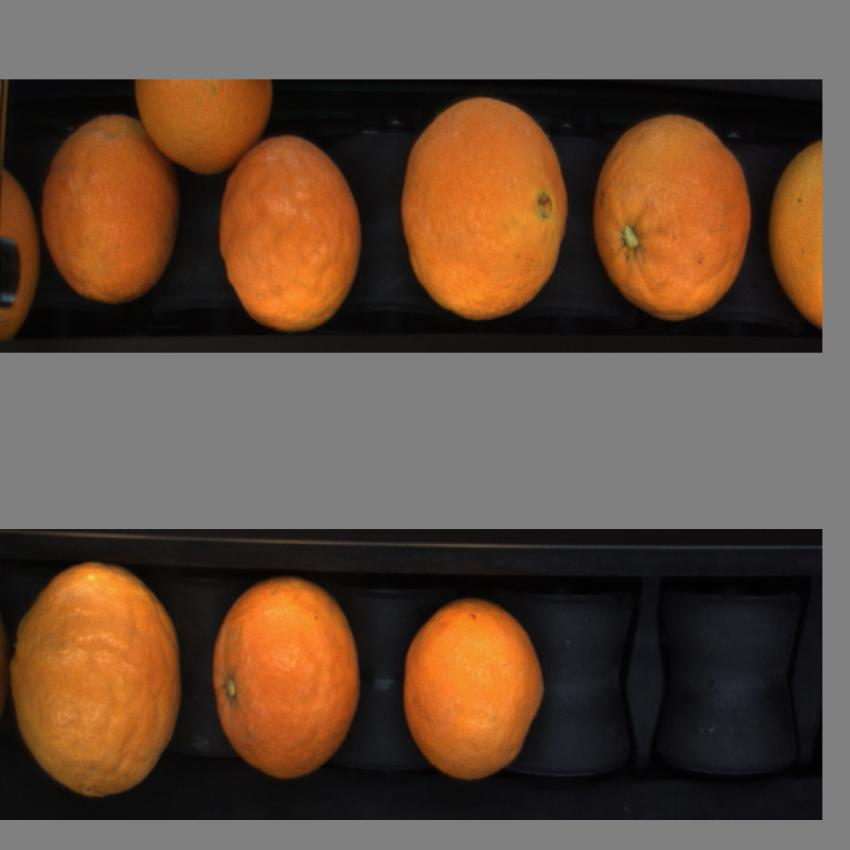Buen estado: (6, 556, 186, 802), (394, 88, 572, 325), (588, 104, 760, 328), (210, 573, 368, 784), (212, 131, 368, 334), (401, 588, 551, 789), (34, 110, 186, 308), (133, 78, 278, 173), (765, 130, 822, 336)
